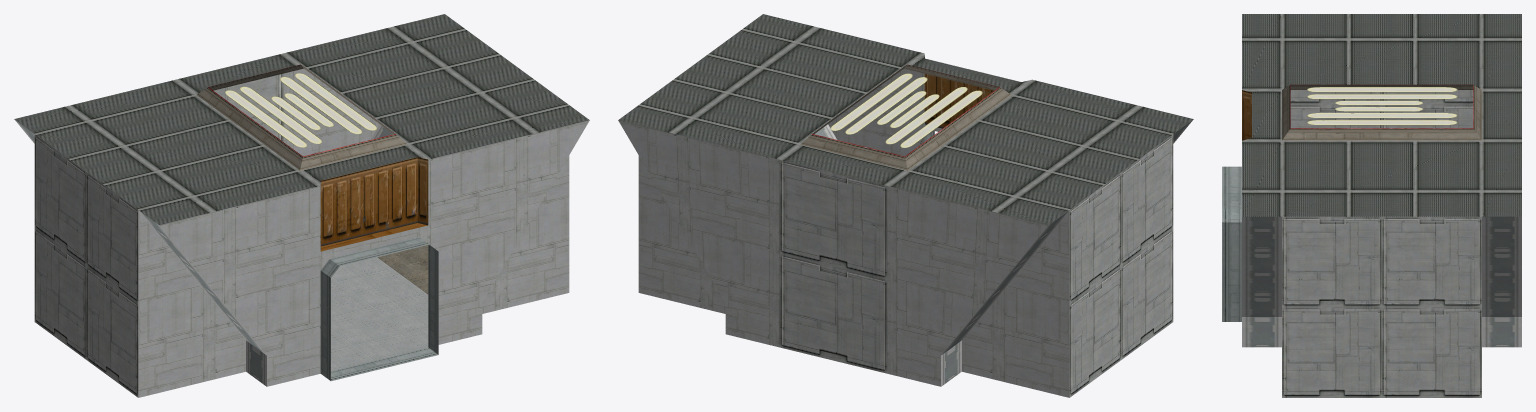
The model's file is mun_all_military_base_police_station_rebl_s01_r7_storage1_mesh_r7.fbx.
The picture shows the model from 3 angles, left to right: view 1: azimuth 30°, elevation 25°; view 2: azimuth 150°, elevation 25°; view 3: azimuth 270°, elevation 25°; orthographic projection. The views are drawn at different scales.
Visible parts, largest first — view 1: mesh_node; view 2: mesh_node; view 3: mesh_node.
Part boxes in pixels (x1,y1,x2,y2): mesh_node: [14, 14, 589, 397]; mesh_node: [618, 14, 1193, 397]; mesh_node: [1222, 14, 1521, 397].
Size of the model in its own units: 12 by 5.25 by 7.5.
